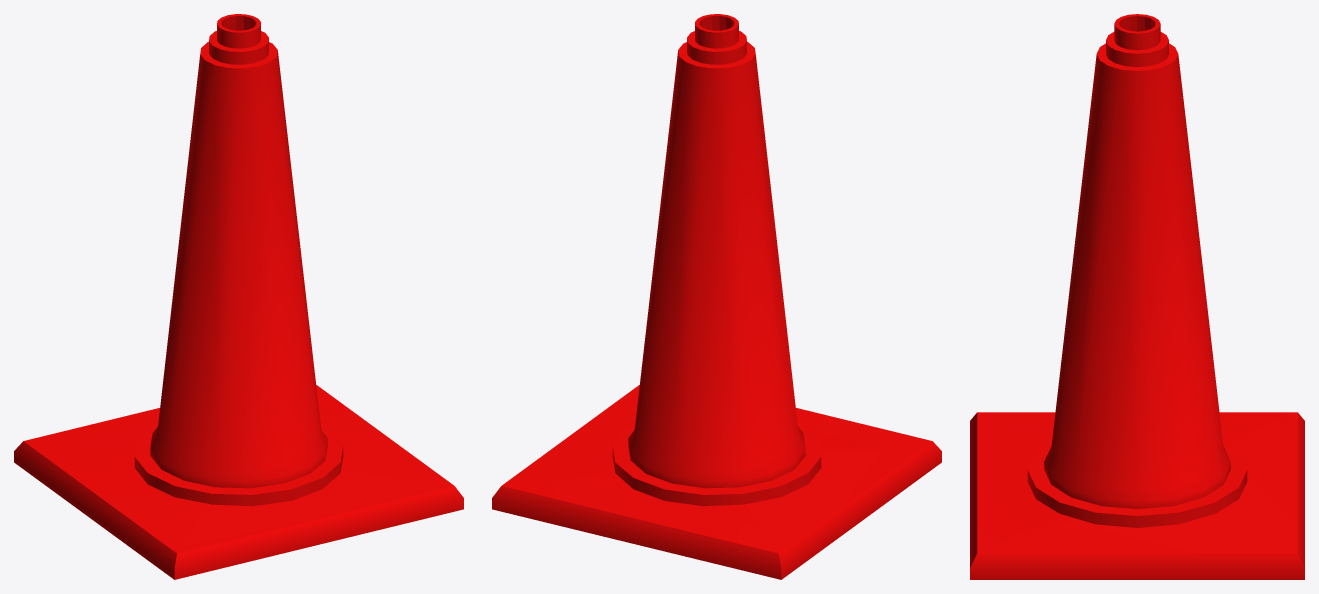
The model's file is 칼라콘.fbx.
The picture shows the model from 3 angles, left to right: view 1: azimuth 30°, elevation 25°; view 2: azimuth 150°, elevation 25°; view 3: azimuth 270°, elevation 25°; orthographic projection. The views are drawn at different scales.
Parts seen in each view (by area): view 1: Object001; view 2: Object001; view 3: Object001.
Part boxes in pixels (box(x1,y1,x2,y2)): Object001: box(14, 14, 463, 579); Object001: box(492, 14, 941, 579); Object001: box(970, 14, 1304, 579).
Bounding box in the file's own units: 127 × 195 × 122.
